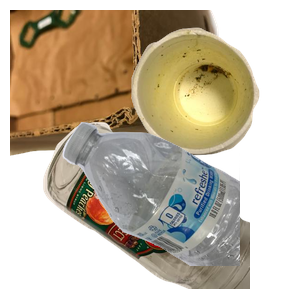cardboard: (10, 10, 237, 158)
glass: (41, 120, 281, 300)
plastic: (60, 120, 300, 300)
trash: (129, 25, 300, 173)
